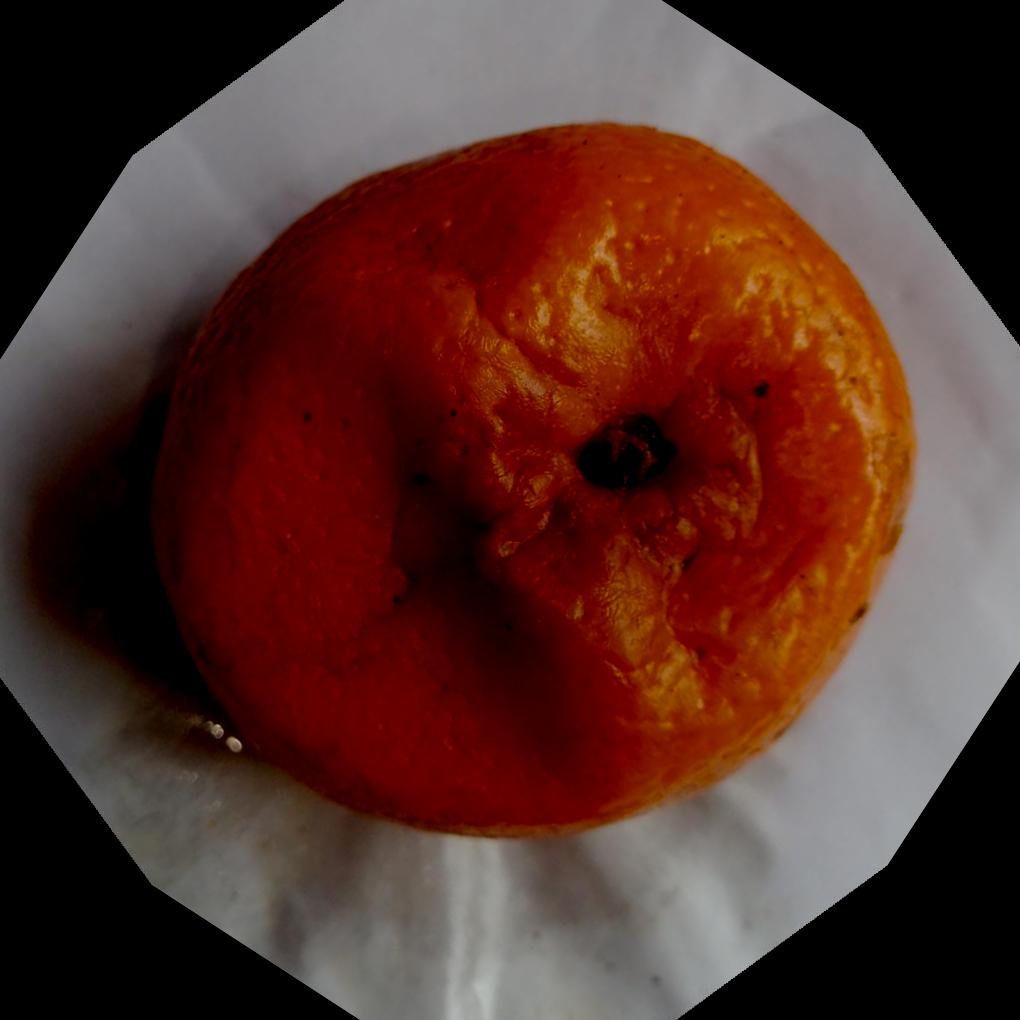FreshOrange: (138, 121, 917, 841)
